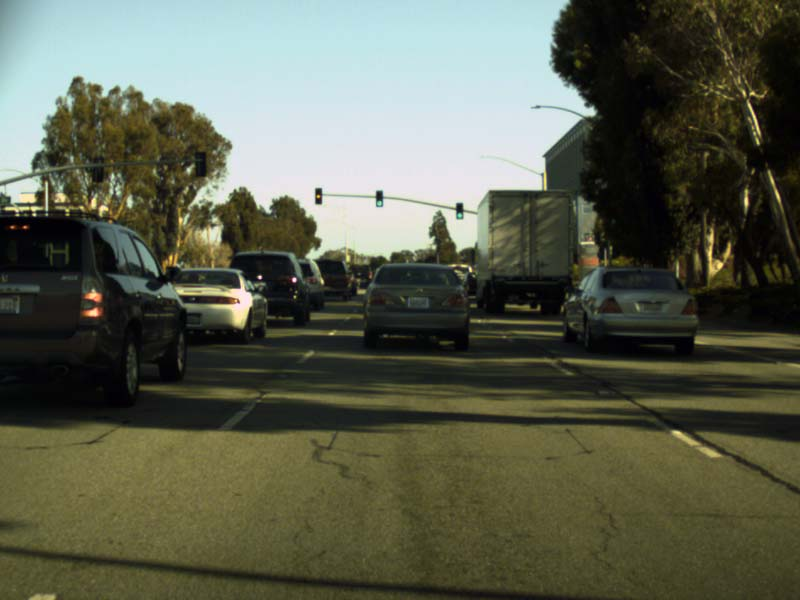Green: (455, 203, 463, 219), (375, 190, 382, 206)
Yellow: (314, 187, 322, 203)
